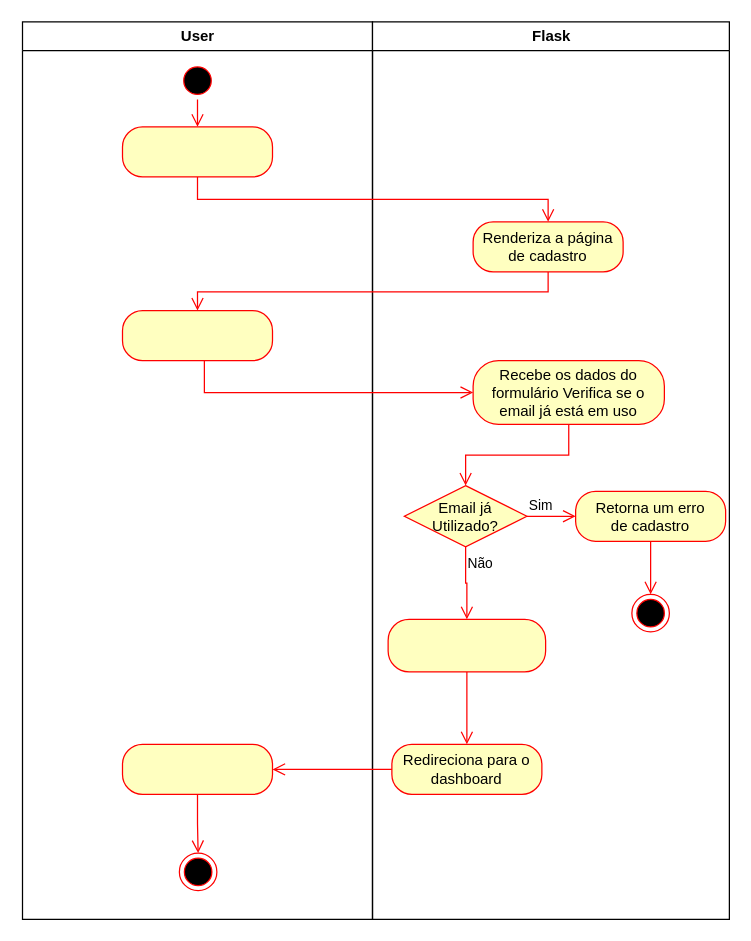
This 751x941 diagram has some shape labels left out. Each missing label, with the centre of its shape:
Acessa a página de cadastro: [196,151]
Cria um novo usuário e salva no banco de dados: [466,645]
Preenche o formulário de cadastro: [196,335]
Usuário cadastrado e redirecionado: [196,768]
